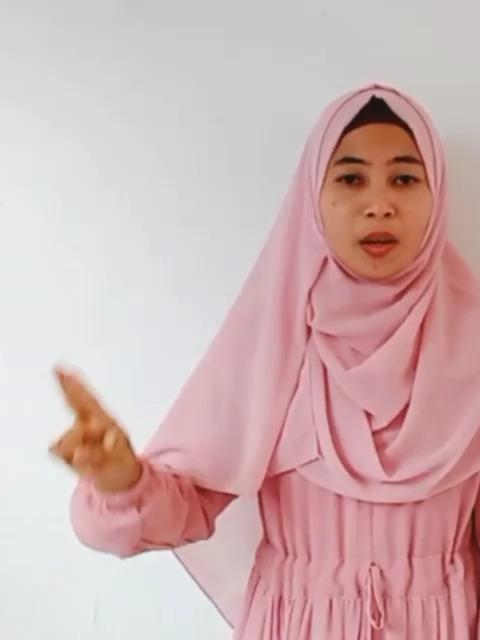U: (38, 360, 144, 488)
